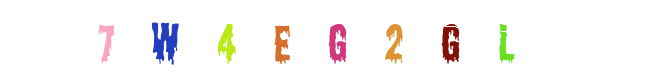2: (310, 0, 390, 80)
4: (199, 0, 279, 80)
7: (125, 0, 205, 80)
E: (286, 0, 366, 80)
G: (296, 0, 376, 80), (410, 0, 490, 80)
L: (464, 0, 544, 80)
W: (187, 0, 267, 80)
